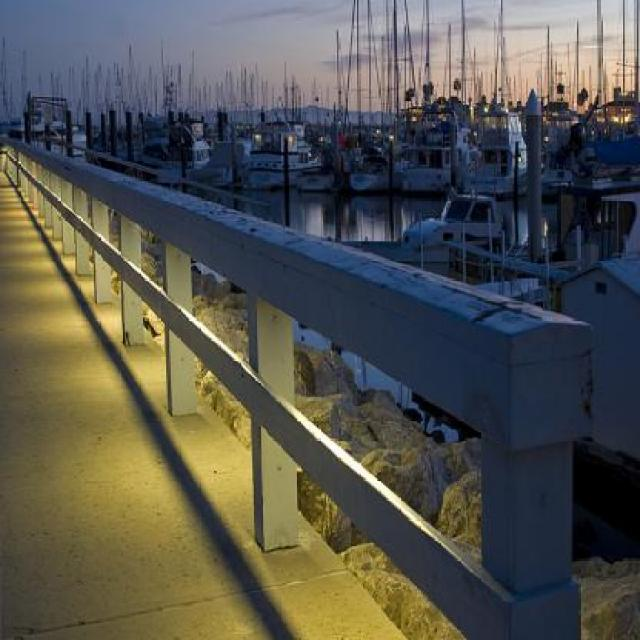ship: (248, 56, 324, 184), (399, 188, 499, 250), (398, 105, 469, 189), (462, 102, 526, 188), (140, 123, 209, 166), (582, 119, 640, 168), (540, 107, 572, 191), (190, 138, 248, 178), (3, 105, 80, 134), (350, 153, 401, 189), (340, 143, 362, 171), (294, 172, 332, 188)
